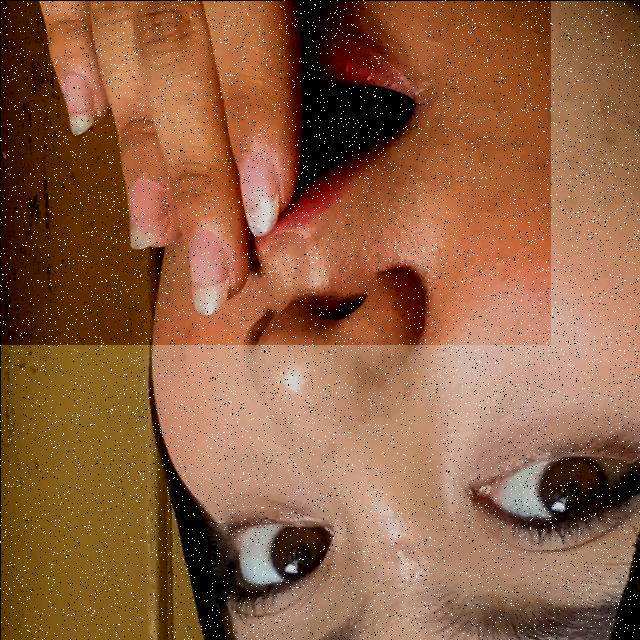ngantuk: (0, 0, 550, 344)
